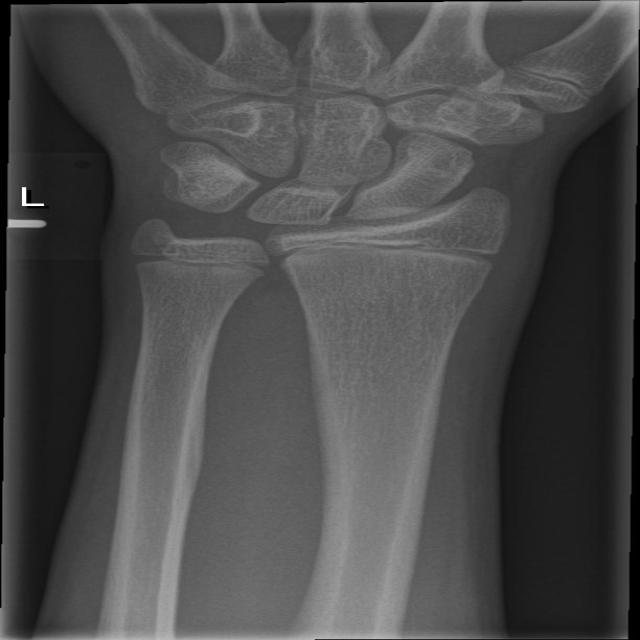fracture: (262, 229, 511, 275), (125, 240, 276, 288)
